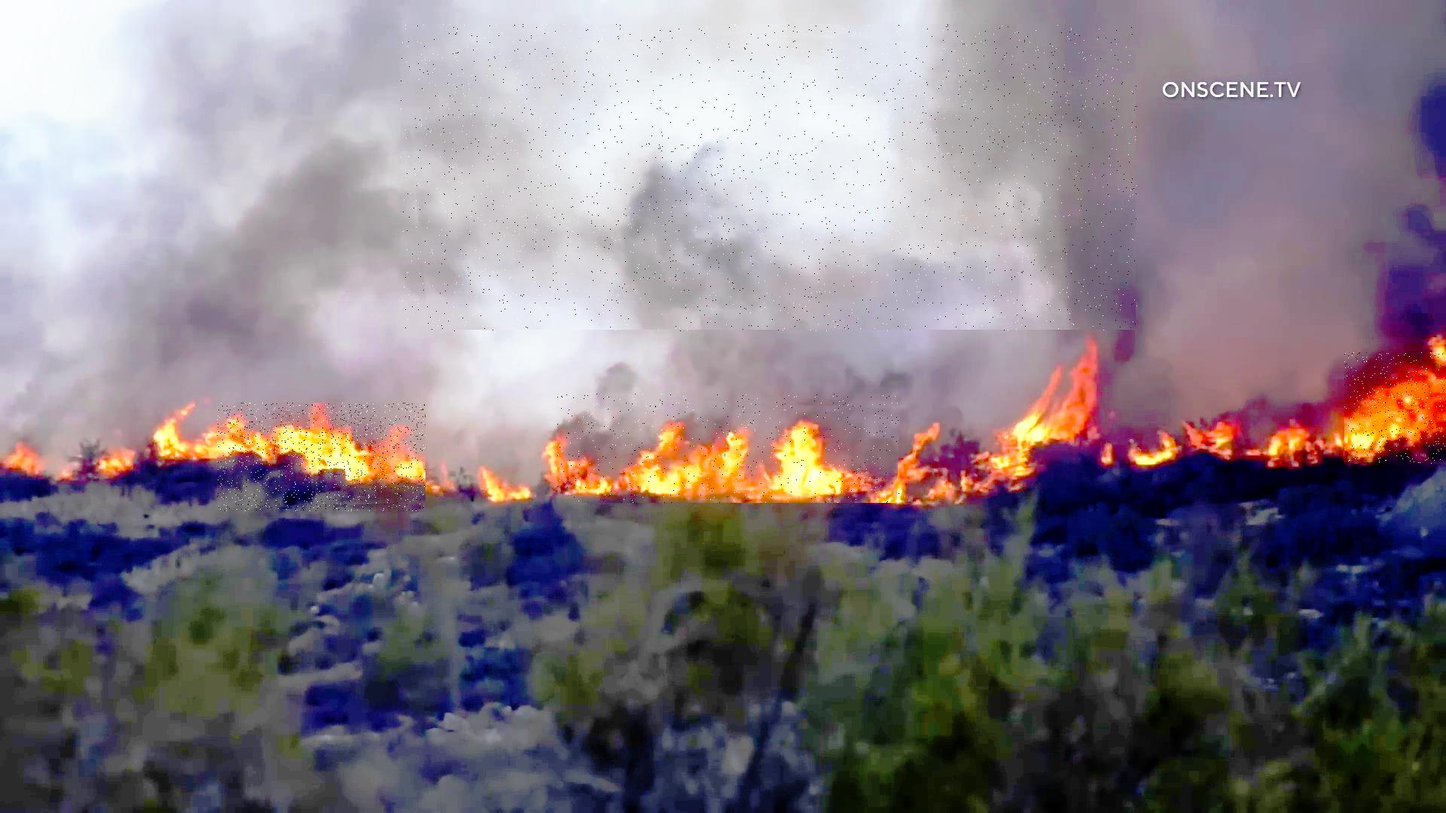fire: (557, 394, 900, 503), (217, 403, 426, 512), (1345, 352, 1446, 464)
smoke: (401, 25, 1138, 332)
